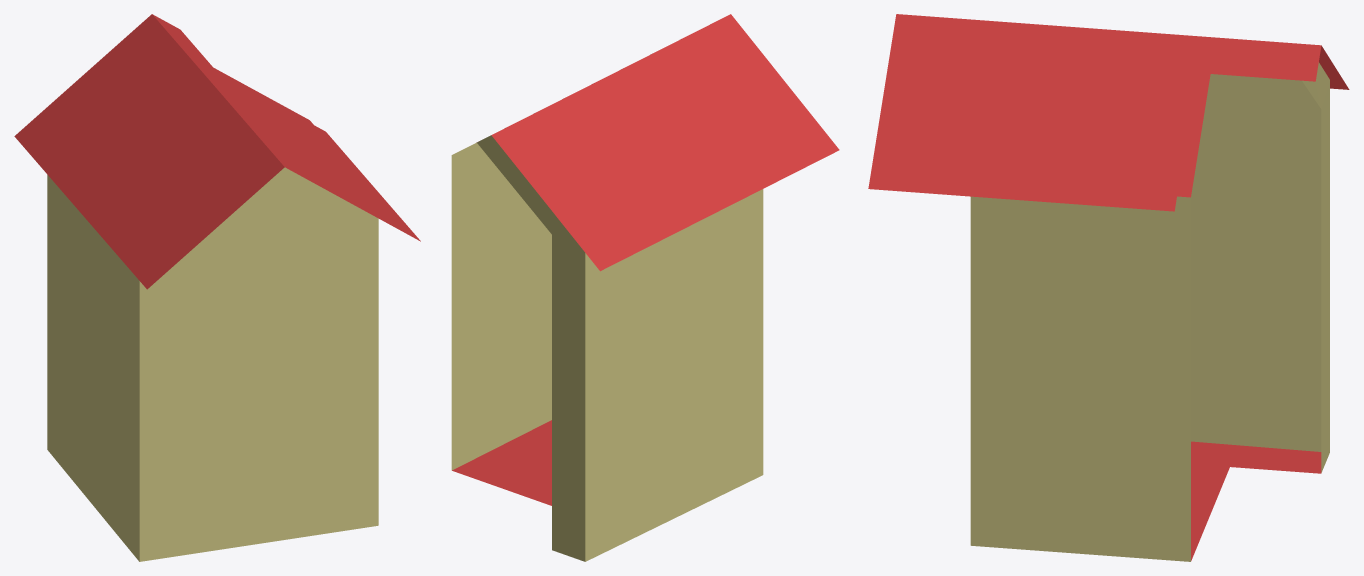
3 views of the same model, side by side, from view 1: azimuth 30°, elevation 25°; view 2: azimuth 150°, elevation 25°; view 3: azimuth 270°, elevation 25° (orthographic). The views are drawn at different scales.
Size of the model in its own units: 13.32 by 17.09 by 18.12.
